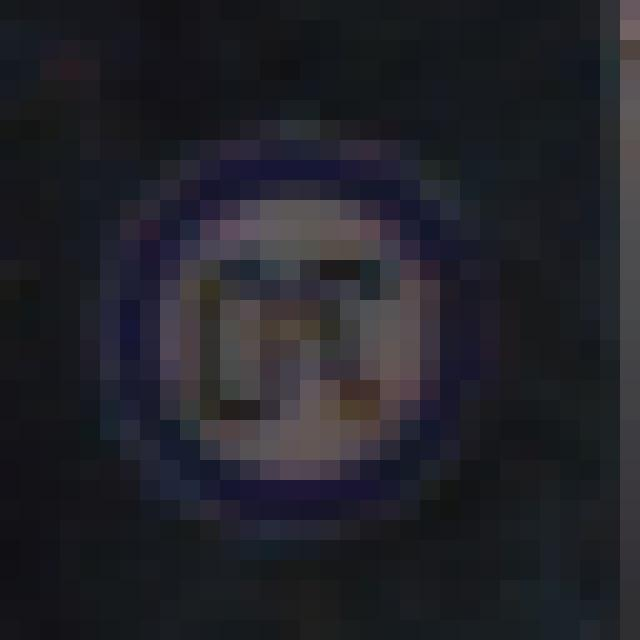SPEED LIMIT 70: (107, 145, 483, 531)
